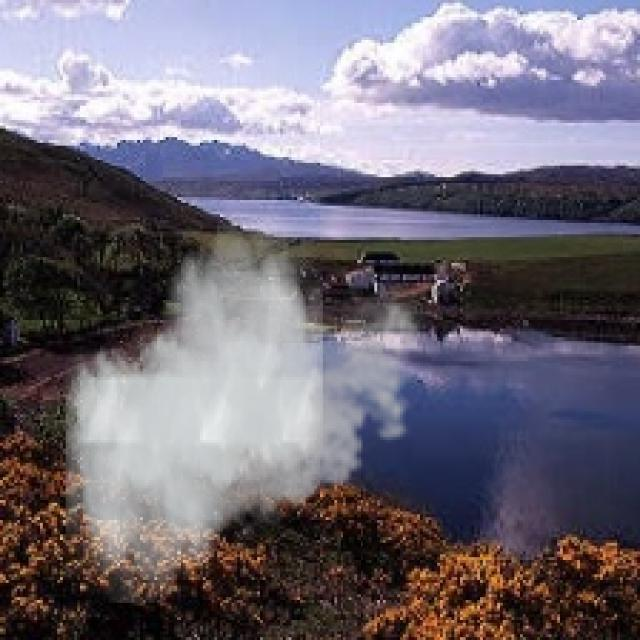Smoke: (66, 217, 432, 603)
